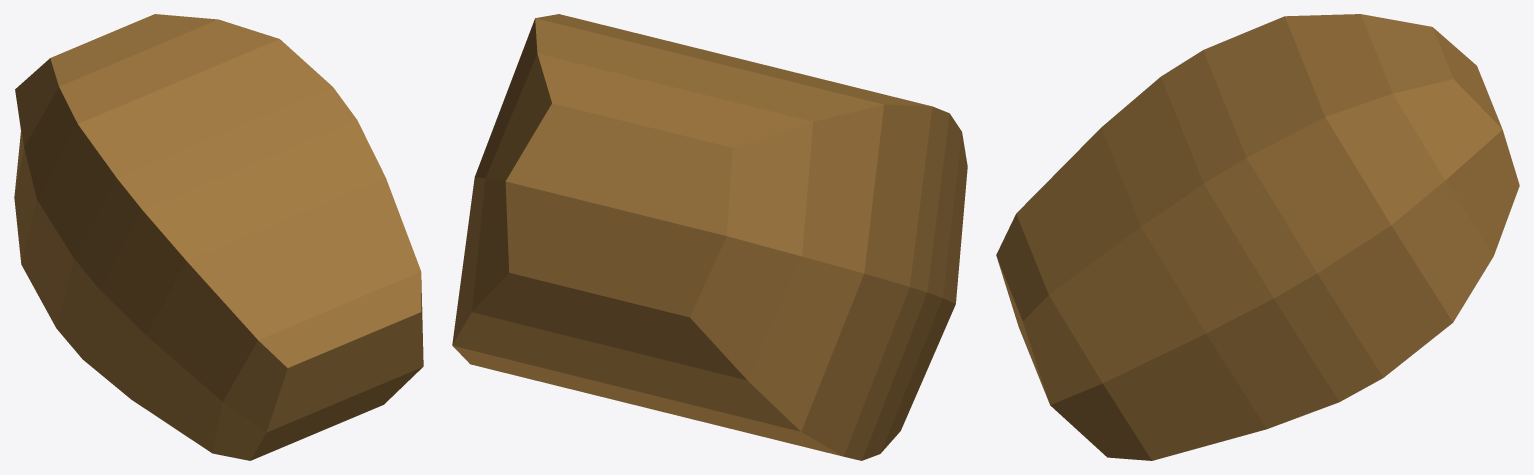
Rendered from potato.fbx.
3 renders of one model, left to right at view 1: azimuth 30°, elevation 25°; view 2: azimuth 150°, elevation 25°; view 3: azimuth 270°, elevation 25°, orthographic. The views are drawn at different scales.
Parts seen in each view (by area): view 1: Potato; view 2: Potato; view 3: Potato.
Boxes of the visible parts, bbox=[...] form: Potato: bbox=[14, 14, 423, 460]; Potato: bbox=[452, 14, 967, 460]; Potato: bbox=[996, 14, 1519, 460].
Size of the model in its own units: 0.6883 by 0.766 by 1.02.
